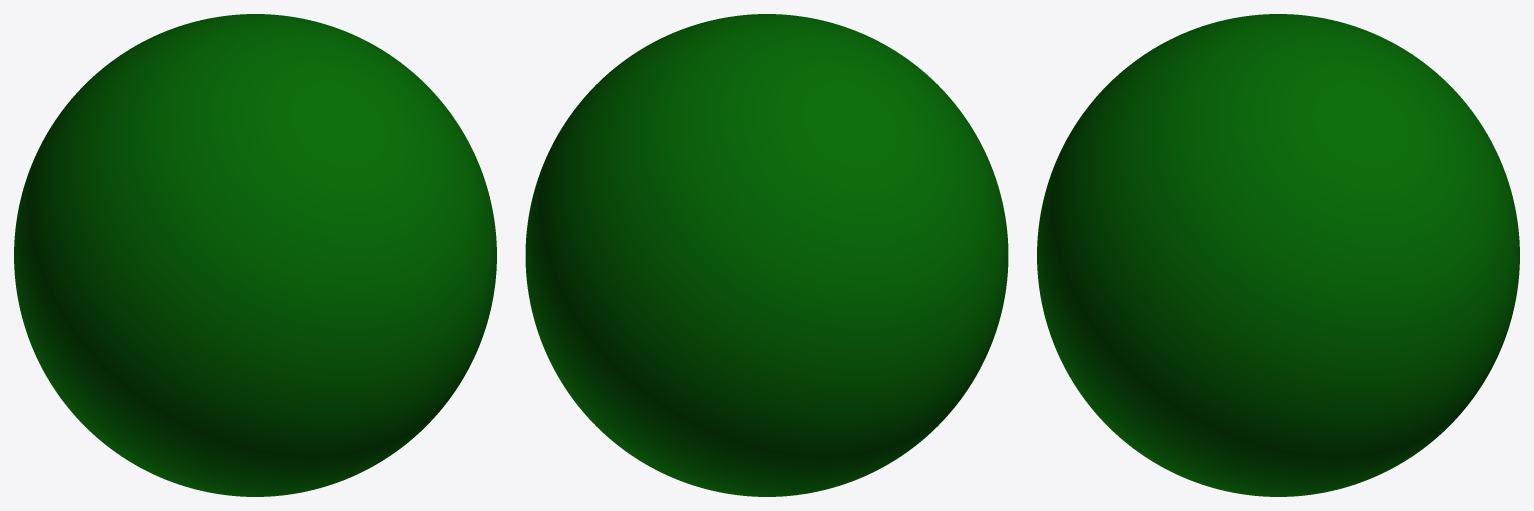
The model's file is Esfera.obj.
3 renders of one model, left to right at view 1: azimuth 30°, elevation 25°; view 2: azimuth 150°, elevation 25°; view 3: azimuth 270°, elevation 25°, orthographic.
Parts seen in each view (by area): view 1: Sphere001; view 2: Sphere001; view 3: Sphere001.
Part boxes in pixels (bbox=[...]): Sphere001: bbox=[14, 14, 496, 496]; Sphere001: bbox=[525, 14, 1008, 496]; Sphere001: bbox=[1037, 14, 1519, 496].
Bounding box in the file's own units: 117 × 117 × 117.
